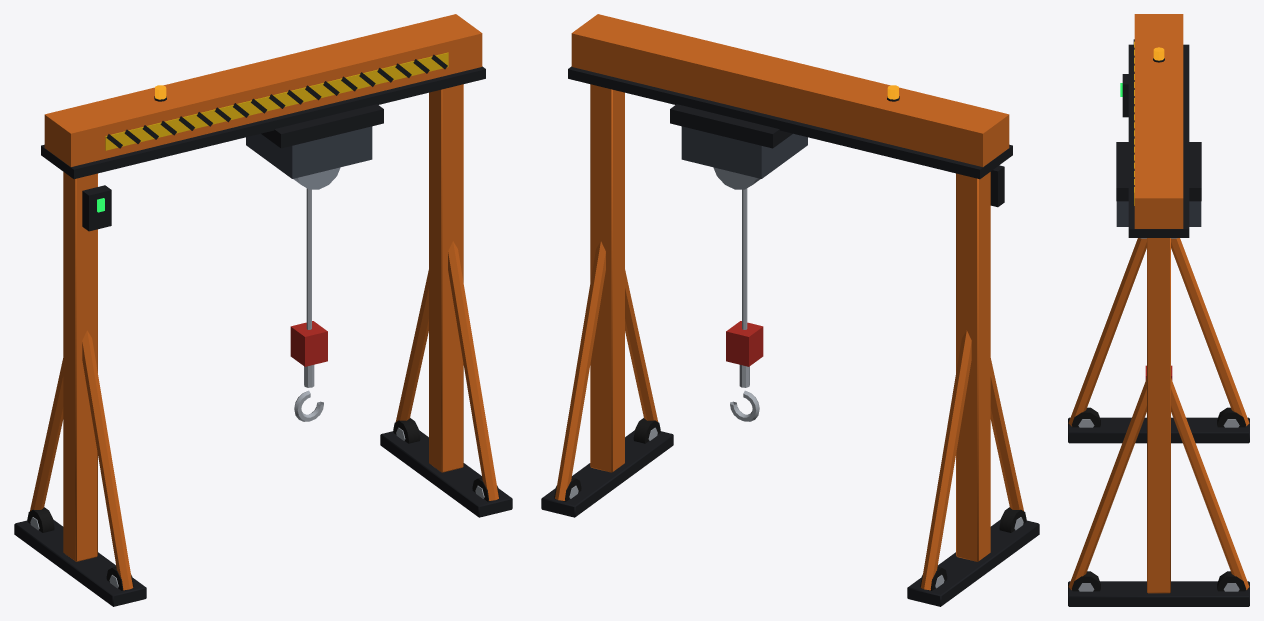
File: loader_crane_gantry_segment.glb
3 renders of one model, left to right at view 1: azimuth 30°, elevation 25°; view 2: azimuth 150°, elevation 25°; view 3: azimuth 270°, elevation 25°, orthographic. The views are drawn at different scales.
Parts seen in each view (by area): view 1: loader_crane_gantry_segment; view 2: loader_crane_gantry_segment; view 3: loader_crane_gantry_segment.
Boxes of the visible parts, bbox=[...] form: loader_crane_gantry_segment: bbox=[14, 14, 512, 606]; loader_crane_gantry_segment: bbox=[541, 14, 1039, 606]; loader_crane_gantry_segment: bbox=[1068, 14, 1249, 606].
Size of the model in its own units: 3.61 by 3.85 by 1.5.
